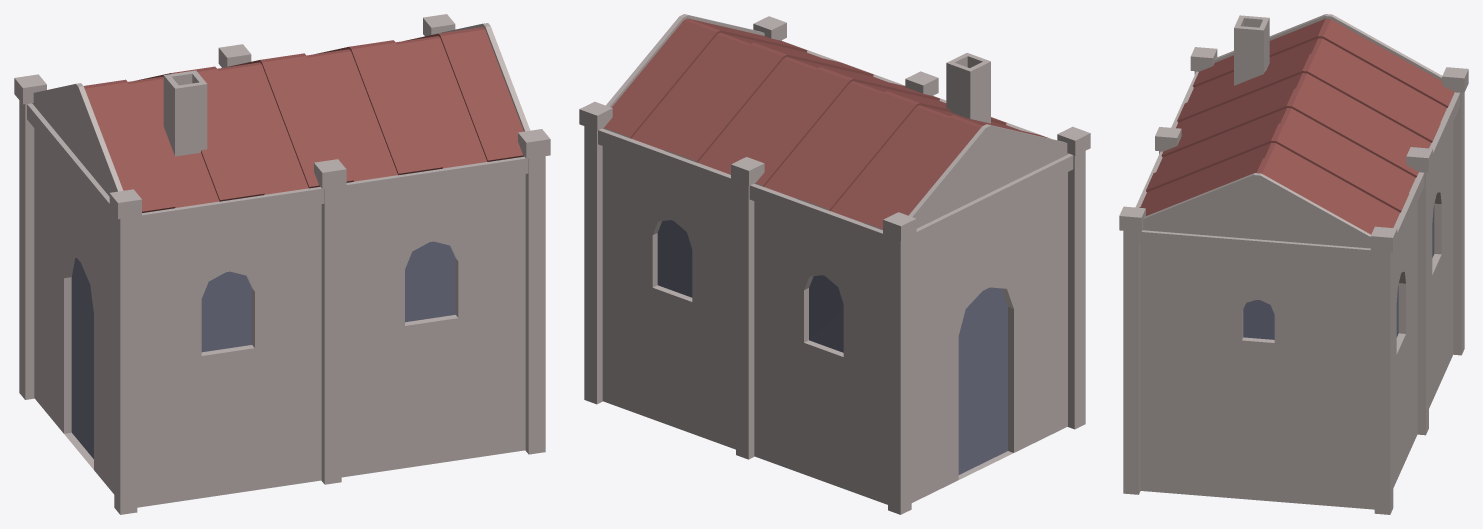
The model's file is building_3.glb.
3 views of the same model, side by side, from view 1: azimuth 30°, elevation 25°; view 2: azimuth 150°, elevation 25°; view 3: azimuth 270°, elevation 25° (orthographic). The views are drawn at different scales.
Parts seen in each view (by area): view 1: Cube.1082; view 2: Cube.1082; view 3: Cube.1082.
Boxes of the visible parts, <box> form: Cube.1082: <box>14,14,550,514</box>; Cube.1082: <box>579,14,1090,514</box>; Cube.1082: <box>1119,14,1468,514</box>.
Bounding box in the file's own units: 0.1315 × 0.1111 × 0.1017.
